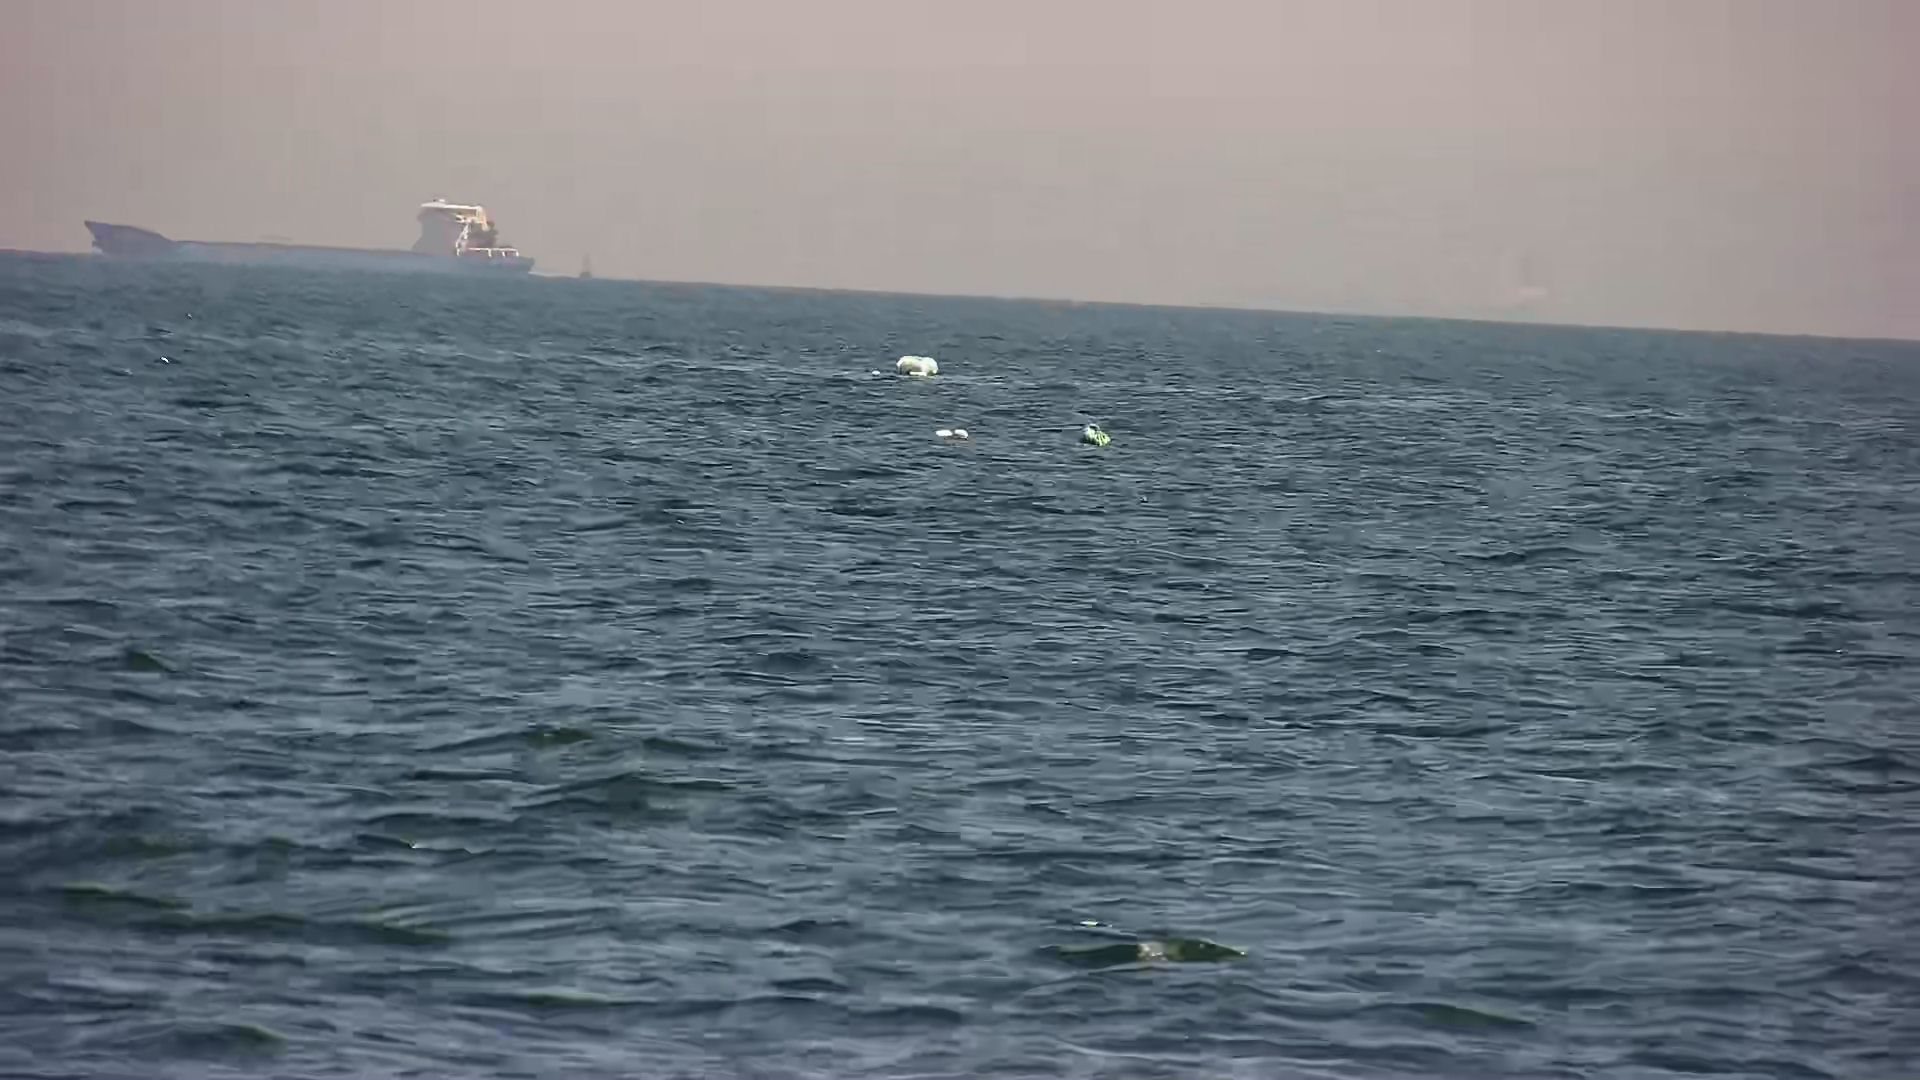rubbish: (882, 345, 953, 381), (1077, 409, 1121, 454), (928, 413, 977, 450)
ship: (73, 200, 554, 287)
